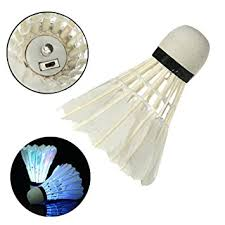shuttle: (93, 21, 218, 188)
